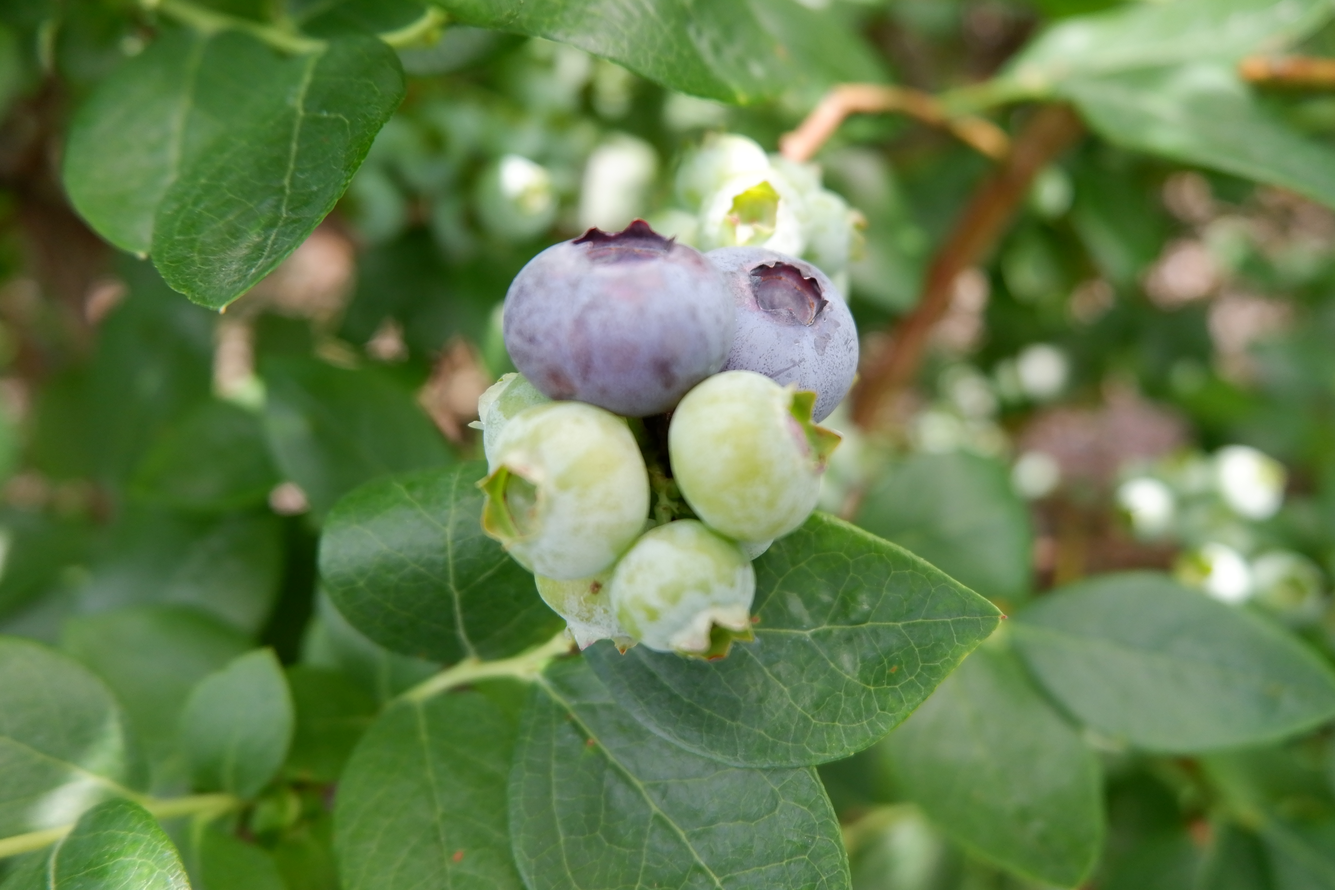Immature: (483, 406, 643, 577), (675, 376, 833, 544), (614, 523, 754, 660), (535, 569, 632, 652), (477, 375, 552, 466), (703, 523, 772, 560)
Mature: (507, 230, 724, 411), (711, 248, 855, 420)
